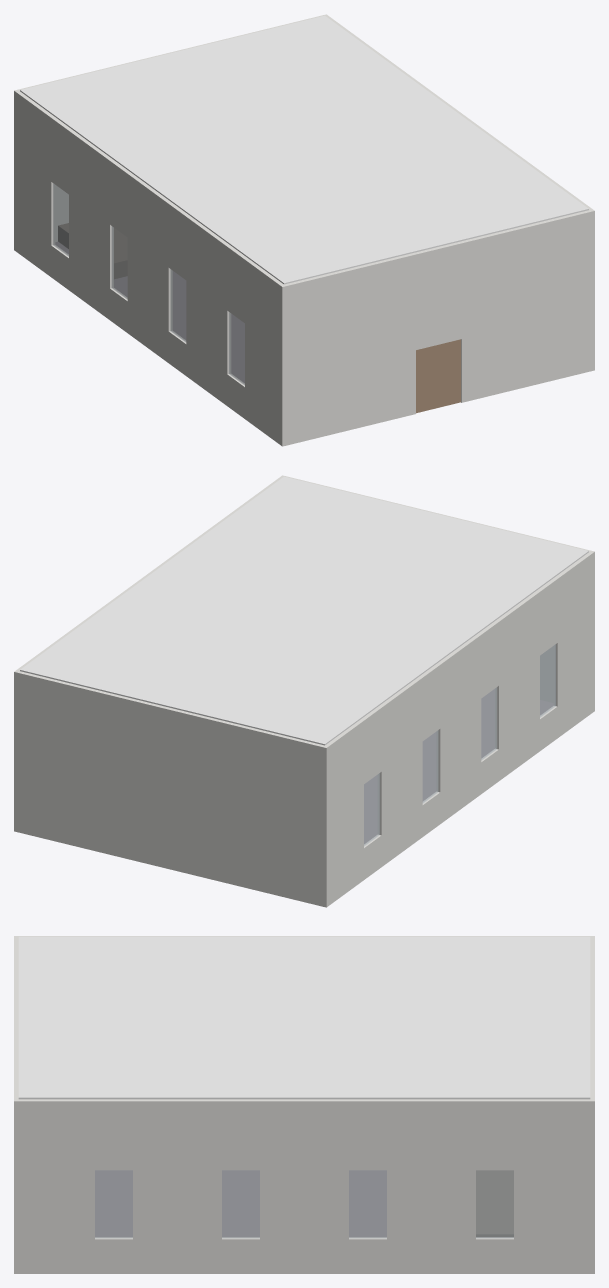
Rendered from sanctuary.glb.
3 renders of one model, top to bottom at view 1: azimuth 30°, elevation 25°; view 2: azimuth 150°, elevation 25°; view 3: azimuth 270°, elevation 25°, orthographic. The views are drawn at different scales.
Visible parts, largest first — view 1: Ceiling, Wall 1 (rear), Wall 4 (left), Doors (rear), Floor, Wall 3 (front), Window (left 2), Window (left 3), Window (left 1), Window (left 4), Stage, Wall 2 (right); view 2: Ceiling, Wall 3 (front), Wall 4 (left), Floor, Wall 1 (rear), Window (left 3), Window (left 1), Window (left 4), Window (left 2), Wall 2 (right); view 3: Ceiling, Wall 2 (right), Floor, Window (right 1), Window (right 2), Window (right 3), Window (right 4), Stage, Wall 1 (rear), Wall 3 (front), Wall 4 (left).
Part boxes in pixels (bbox=[...]): Ceiling: bbox=[20, 15, 588, 284]; Wall 1 (rear): bbox=[280, 209, 594, 446]; Wall 4 (left): bbox=[16, 91, 283, 444]; Doors (rear): bbox=[416, 339, 460, 413]; Floor: bbox=[55, 242, 244, 382]; Wall 3 (front): bbox=[14, 14, 328, 251]; Window (left 2): bbox=[170, 269, 186, 342]; Window (left 3): bbox=[111, 226, 127, 299]; Window (left 1): bbox=[229, 312, 244, 385]; Window (left 4): bbox=[53, 183, 68, 256]; Stage: bbox=[58, 223, 127, 278]; Wall 2 (right): bbox=[326, 16, 592, 209]; Ceiling: bbox=[20, 476, 588, 745]; Wall 3 (front): bbox=[14, 670, 328, 907]; Wall 4 (left): bbox=[325, 552, 592, 905]; Floor: bbox=[364, 689, 553, 843]; Wall 1 (rear): bbox=[280, 475, 594, 712]; Window (left 3): bbox=[422, 730, 438, 803]; Window (left 1): bbox=[540, 644, 555, 717]; Window (left 4): bbox=[364, 773, 379, 846]; Window (left 2): bbox=[481, 687, 496, 760]; Wall 2 (right): bbox=[16, 477, 282, 670]; Ceiling: bbox=[18, 936, 590, 1099]; Wall 2 (right): bbox=[18, 1099, 590, 1273]; Floor: bbox=[95, 1170, 386, 1236]; Window (right 1): bbox=[95, 1170, 132, 1238]; Window (right 2): bbox=[222, 1170, 259, 1238]; Window (right 3): bbox=[349, 1170, 386, 1238]; Window (right 4): bbox=[476, 1170, 513, 1238]; Stage: bbox=[476, 1170, 513, 1236]; Wall 1 (rear): bbox=[14, 936, 18, 1273]; Wall 3 (front): bbox=[590, 936, 594, 1273]; Wall 4 (left): bbox=[18, 936, 590, 936].
Bounding box in the file's own units: 12.5 × 6.2 × 18.59.
